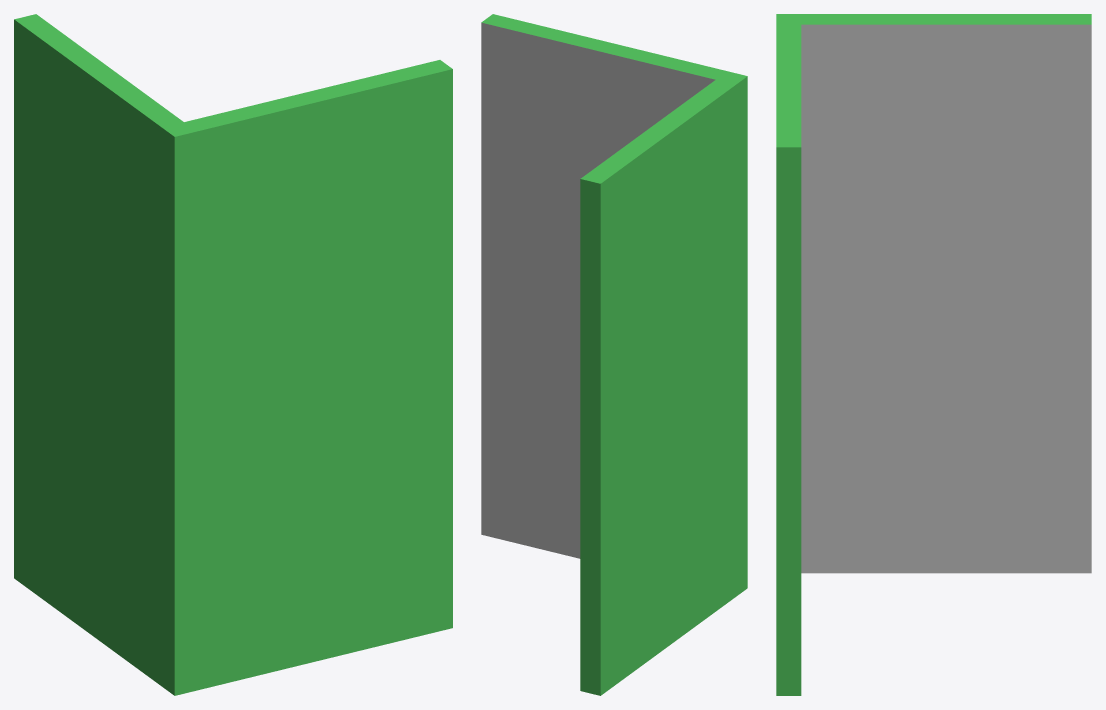
File: Ph_corner.fbx
3 renders of one model, left to right at view 1: azimuth 30°, elevation 25°; view 2: azimuth 150°, elevation 25°; view 3: azimuth 270°, elevation 25°, orthographic. The views are drawn at different scales.
Parts seen in each view (by area): view 1: Cube_95; view 2: Cube_95; view 3: Cube_95.
Boxes of the visible parts, x1,y1,x2,y2 form: Cube_95: (14,14,452,695); Cube_95: (481,14,747,695); Cube_95: (776,14,1091,695).
Bounding box in the file's own units: 130 × 250 × 130.
